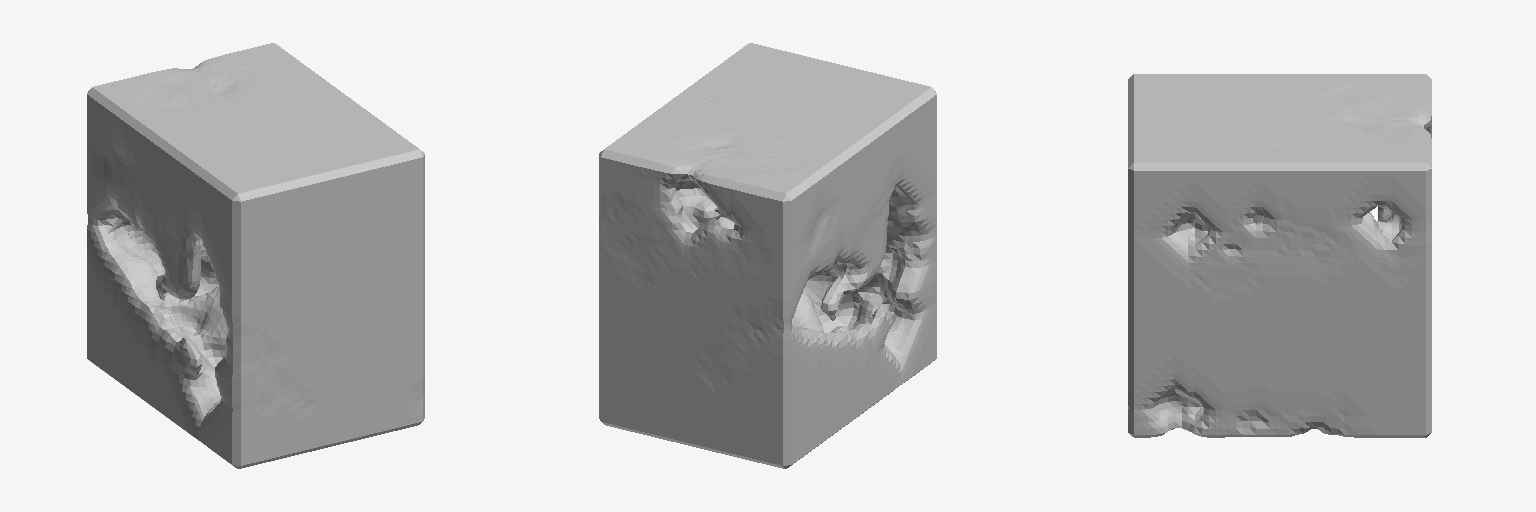
3 renders of one model, left to right at view 1: azimuth 30°, elevation 25°; view 2: azimuth 150°, elevation 25°; view 3: azimuth 270°, elevation 25°, orthographic.
Visible parts, largest first — view 1: Liquid_Domain; view 2: Liquid_Domain; view 3: Liquid_Domain.
Boxes of the visible parts, x1,y1,x2,y2 form: Liquid_Domain: [87, 43, 424, 468]; Liquid_Domain: [599, 43, 936, 468]; Liquid_Domain: [1128, 74, 1431, 437].
Bounding box in the file's own units: 79.09 × 108 × 108.